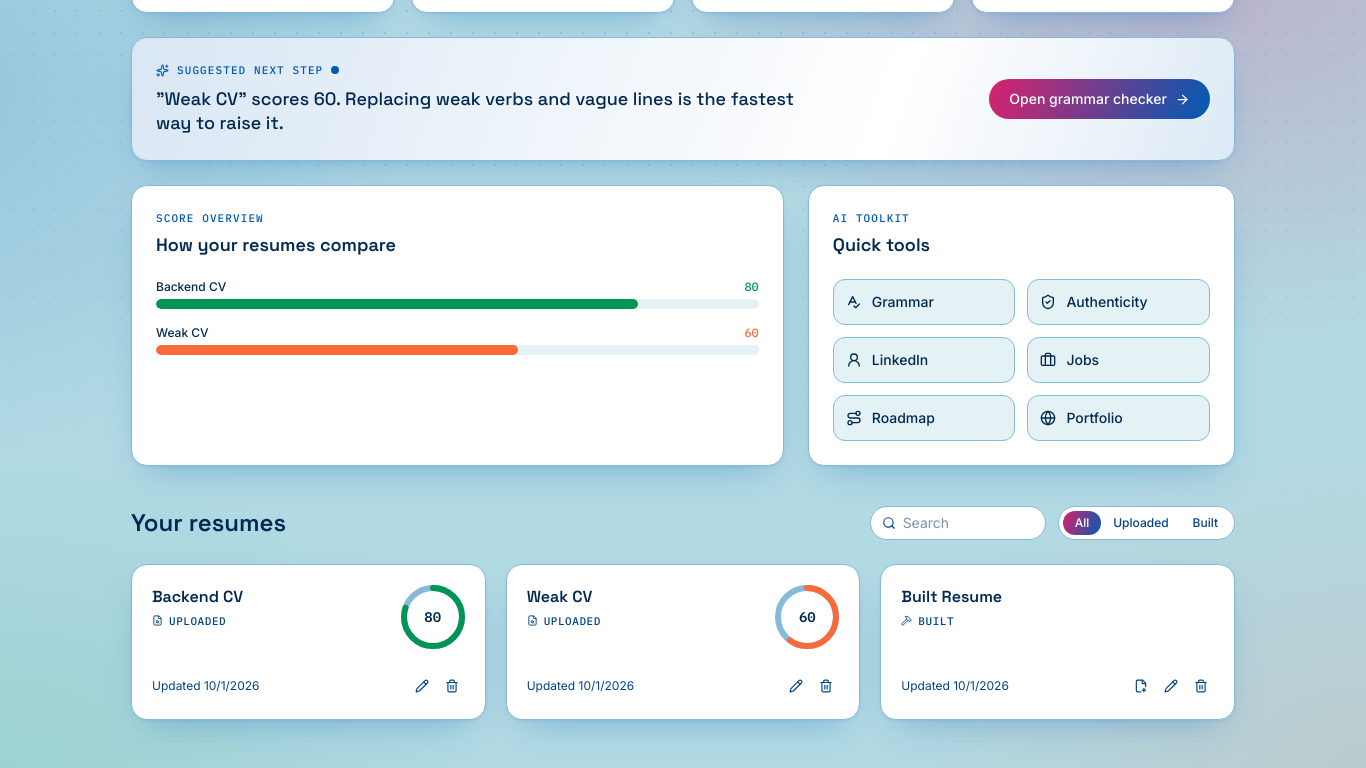
Test: Dashboard › plays the exit animation, deletes, then reloads the list
(page scrolled)
Check: the link "Weak CV" is shown, box top-left (527, 586), bottom-right (592, 606)
Click the 2nd button named "Delete": click(826, 686) top-left (813, 672), bottom-right (839, 698)
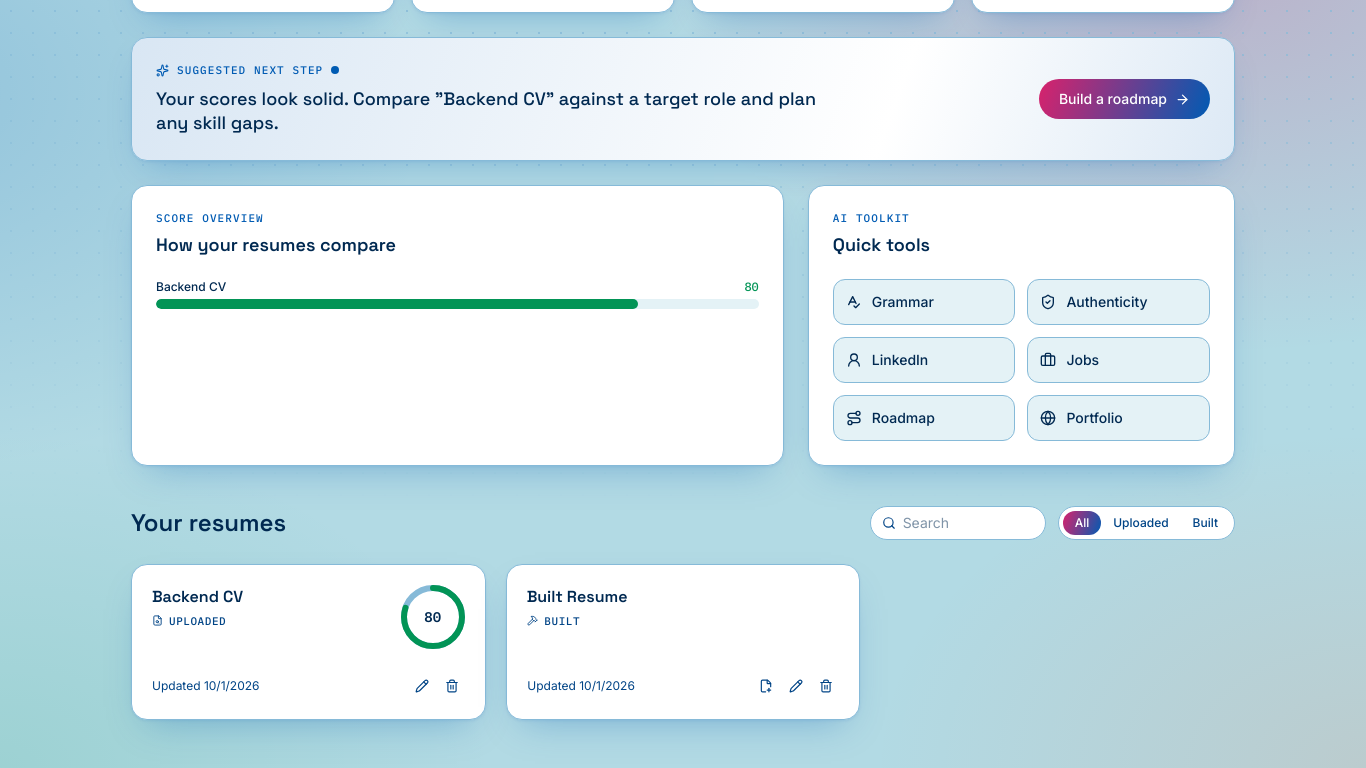
Check: the text "Weak CV" is gone
